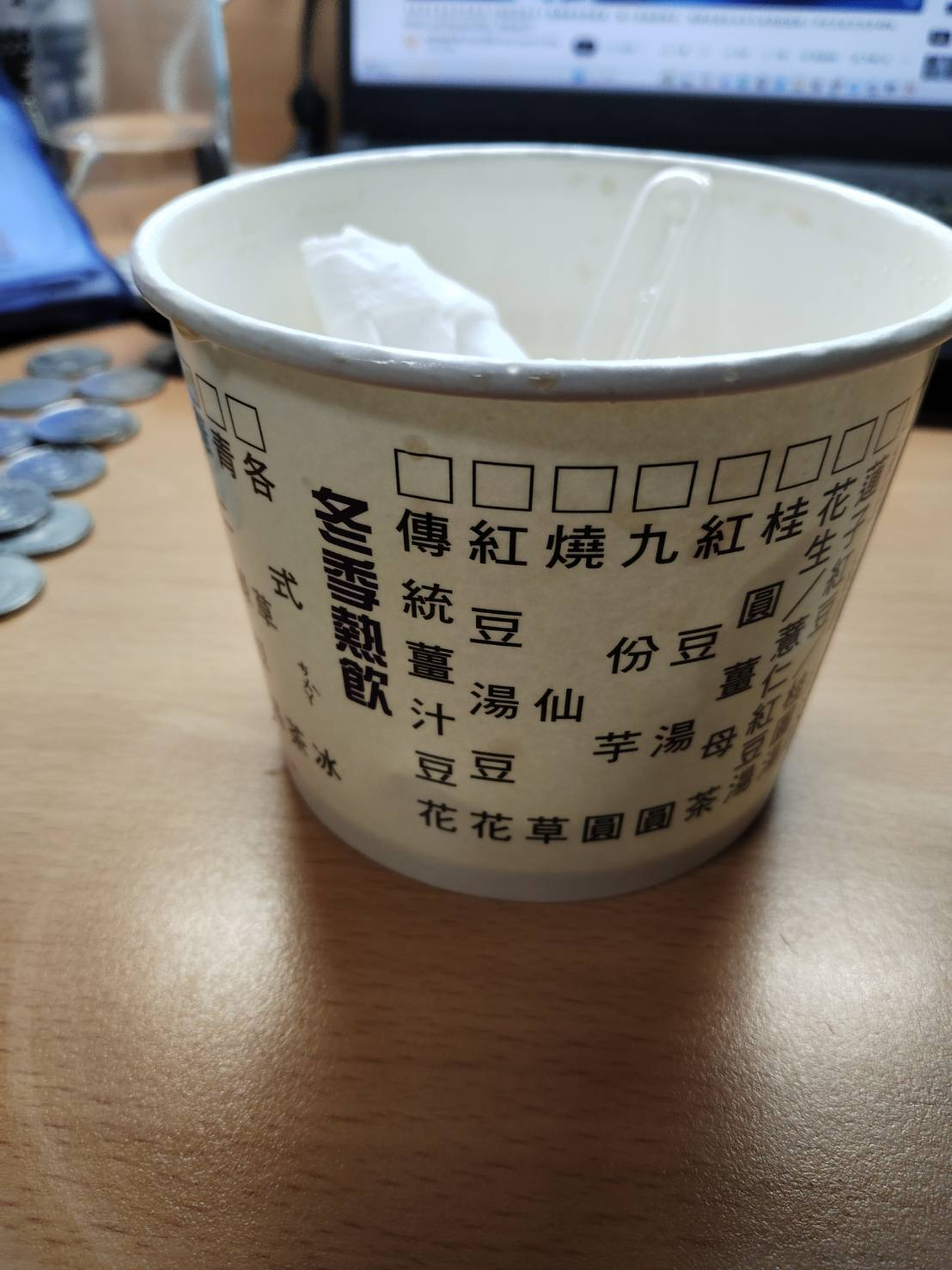paper: (92, 83, 952, 1032)
